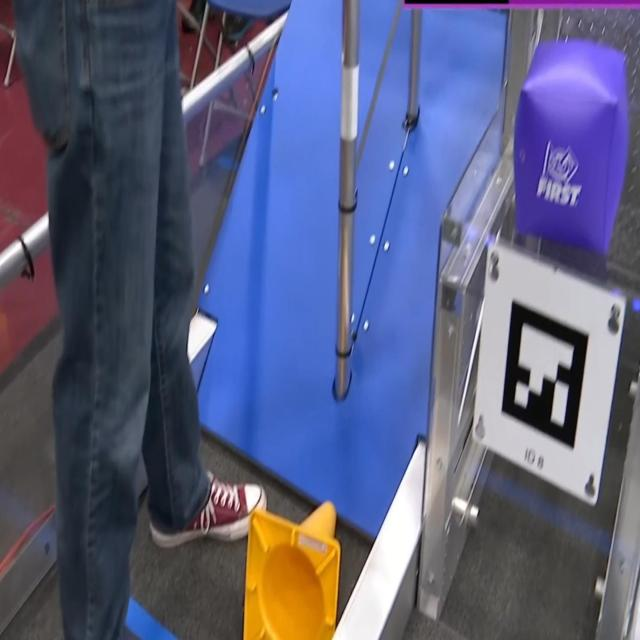frc_cone: (244, 500, 340, 640)
frc_cube: (518, 49, 622, 244)
